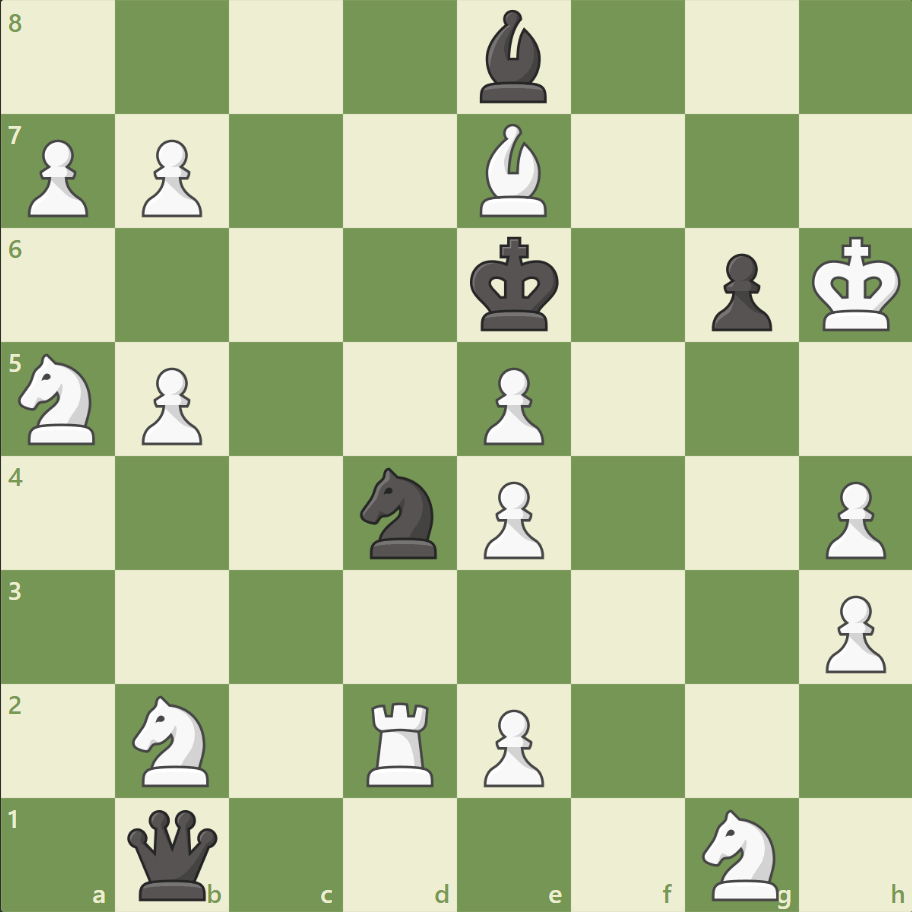B: (471, 120, 555, 222)
K: (806, 231, 906, 339)
N: (124, 688, 222, 791), (11, 348, 108, 450), (692, 802, 789, 904)
P: (20, 132, 95, 223), (133, 132, 208, 223), (133, 359, 208, 450), (474, 359, 549, 450), (474, 473, 549, 564), (474, 700, 549, 791), (815, 473, 889, 564), (815, 586, 889, 677)
R: (360, 693, 442, 790)
b: (471, 6, 555, 109)
k: (465, 231, 565, 339)
n: (351, 461, 449, 564)
p: (701, 246, 776, 337)
q: (124, 804, 223, 903)
